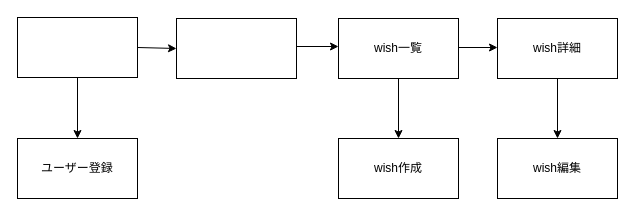
The diagram is 635 pixels wide and 216 high, and some of its shapes have lost their labels. Here are the shapes that lost their labels. From the top down, the box of each, then its label:
(16, 16, 138, 78): トップページ
(176, 18, 296, 78): ログイン
